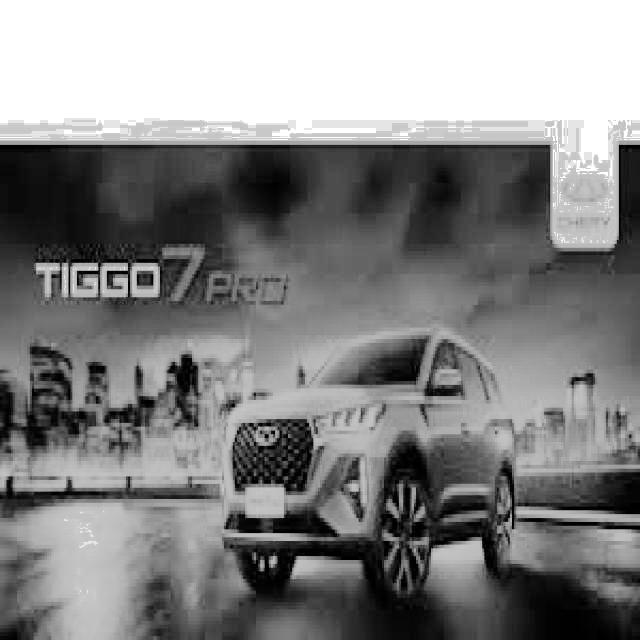Car: (218, 310, 529, 602)
